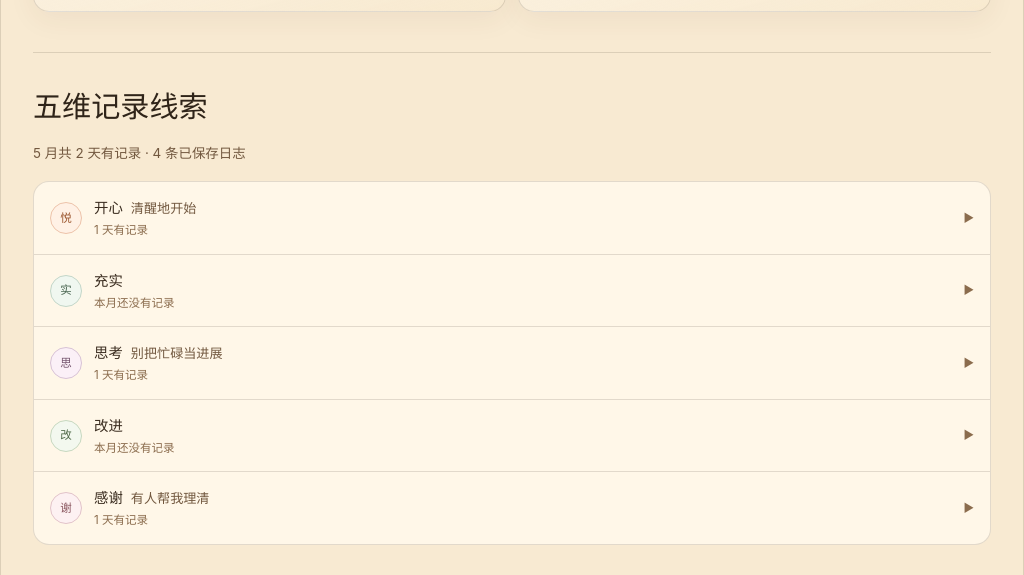
Scenario: analysis shell › renders inline body excerpts when selecting evidence date chips
(page scrolled)
Click the button "悦 开心 清醒地开始 1 天有记录 ▶".
click(66, 218)  # box [34,182,990,254]
(page scrolled)
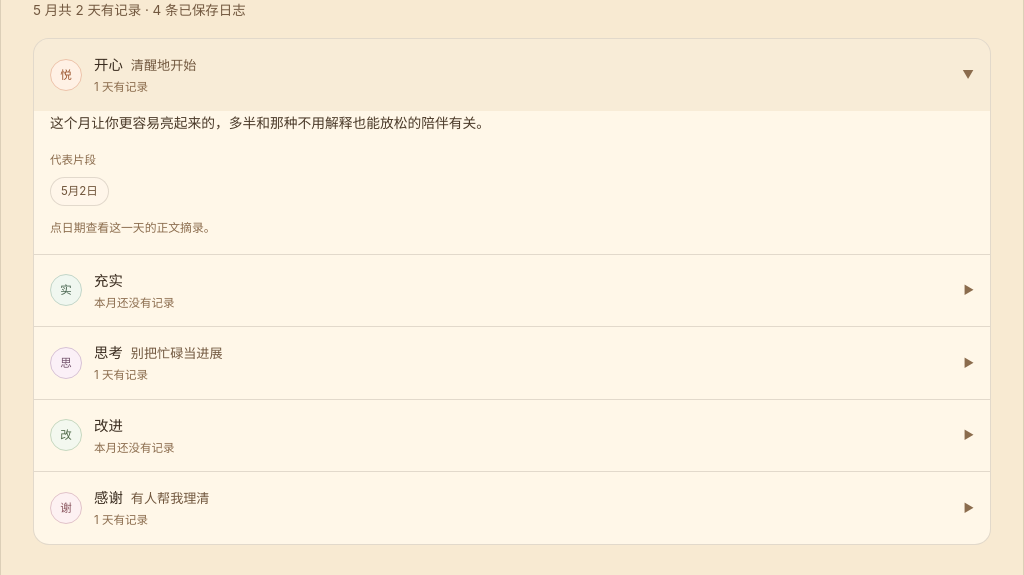
Click the button with test id "analysis-evidence-chip-entry-joy-2".
click(79, 192)  # box [50,177,109,206]
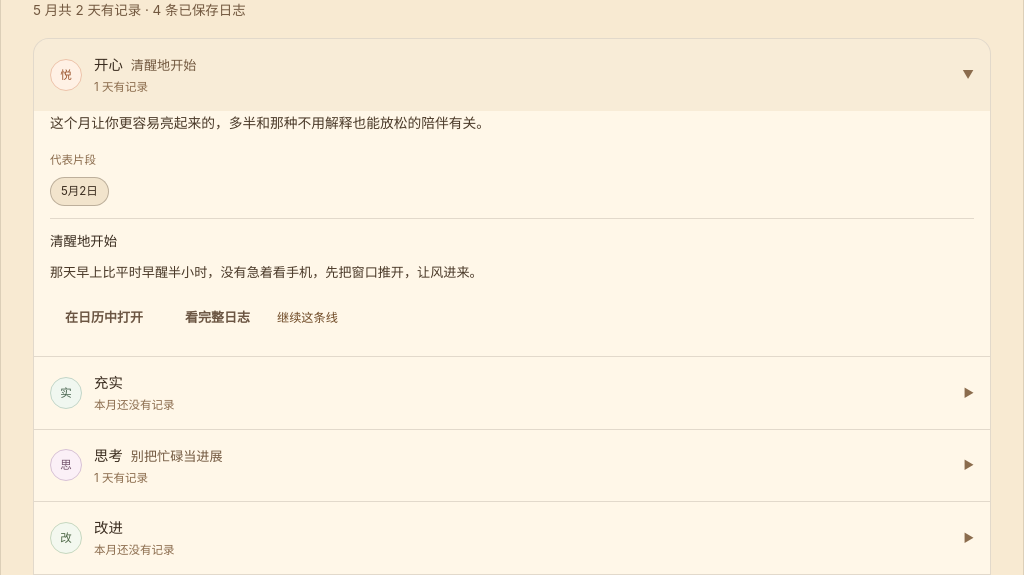
Expected: the element with test id "analysis-evidence-preview-entry-joy-2" shows "清醒地开始", [50,233,117,249]
Expected: the element with test id "analysis-evidence-preview-entry-joy-2" shows "那天早上比平时早醒半小时，没有急着看手机，先把窗口推开，让风进来。", [50,264,483,280]
